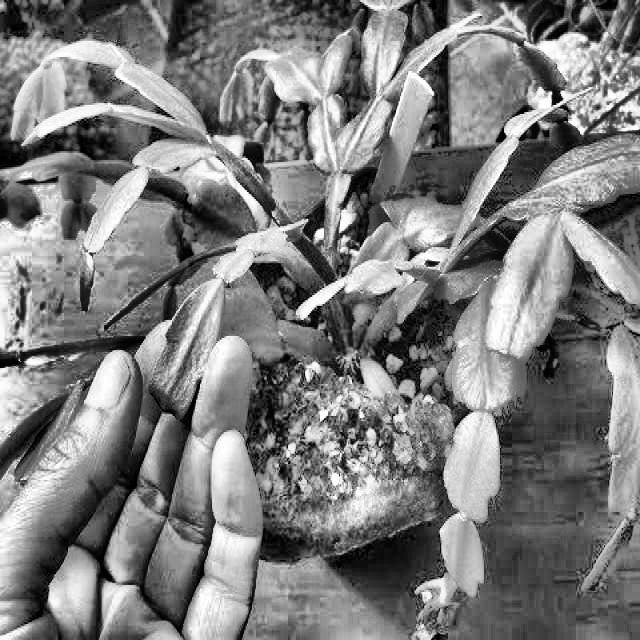plants: (9, 18, 639, 557), (147, 281, 225, 423)
